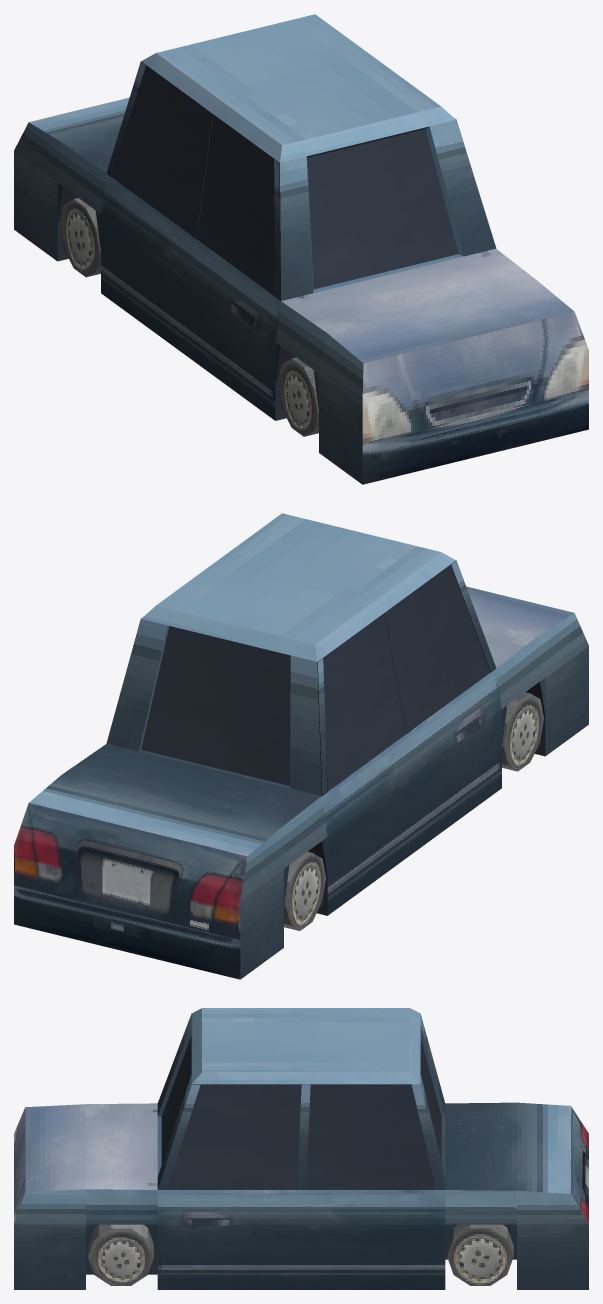
Rendered from cardrivable.glb.
3 renders of one model, top to bottom at view 1: azimuth 30°, elevation 25°; view 2: azimuth 150°, elevation 25°; view 3: azimuth 270°, elevation 25°, orthographic. The views are drawn at different scales.
Visible parts, largest first — view 1: Cube, Wheel.002, Wheel.003; view 2: Cube, Wheel.002, Wheel.003; view 3: Cube, Wheel.004, Wheel.001.
Boxes of the visible parts, x1=… form: Cube: x1=14, y1=14, x2=588, y2=484; Wheel.002: x1=277, y1=357, x2=318, y2=436; Wheel.003: x1=59, y1=198, x2=100, y2=277; Cube: x1=14, y1=513, x2=588, y2=979; Wheel.002: x1=502, y1=692, x2=543, y2=771; Wheel.003: x1=284, y1=851, x2=326, y2=930; Cube: x1=14, y1=1008, x2=588, y2=1289; Wheel.004: x1=447, y1=1224, x2=513, y2=1285; Wheel.001: x1=88, y1=1224, x2=153, y2=1285.
Bounding box in the file's own units: 6 × 6.27 × 16.
1 material, 1 textured.
